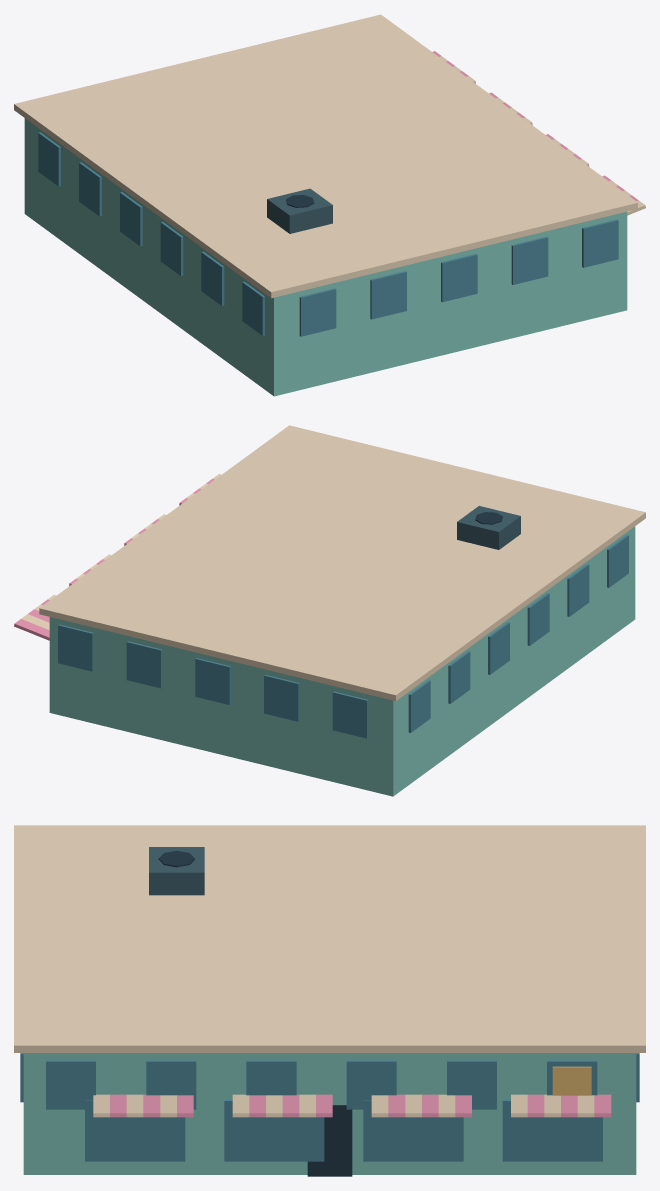
The model's file is building-diner.obj.
The picture shows the model from 3 angles, top to bottom: view 1: azimuth 30°, elevation 25°; view 2: azimuth 150°, elevation 25°; view 3: azimuth 270°, elevation 25°; orthographic projection. The views are drawn at different scales.
Visible parts, largest first — view 1: building-diner; view 2: building-diner; view 3: building-diner.
Boxes of the visible parts, x1,y1,x2,y2 form: building-diner: (14,14,645,396); building-diner: (14,425,645,796); building-diner: (14,825,645,1176).
Bounding box in the file's own units: 20.75 × 6.26 × 22.7.
